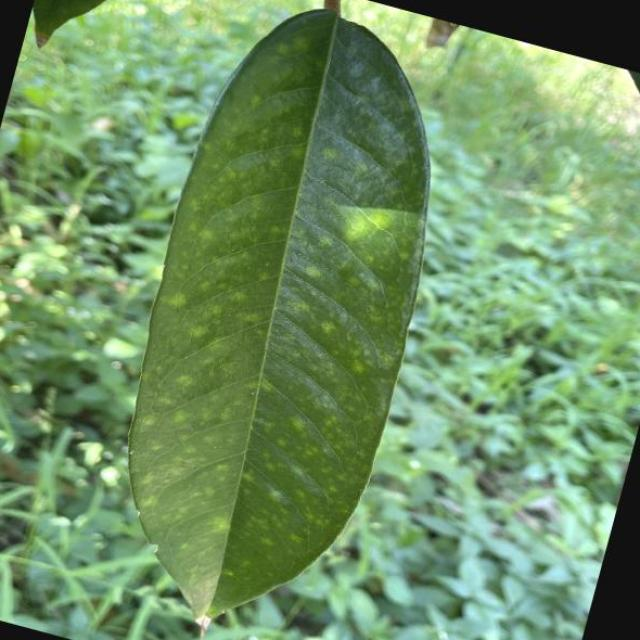Leaf Spot: (61, 0, 493, 640)
